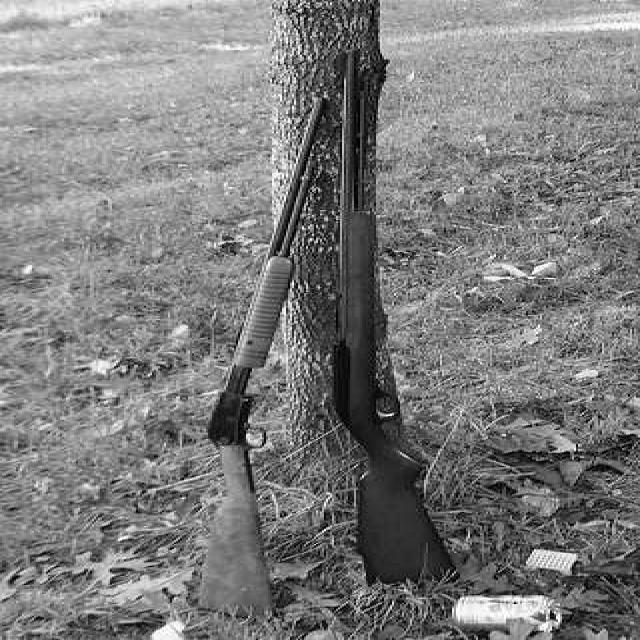weapon: (178, 80, 342, 620), (326, 26, 442, 620)
